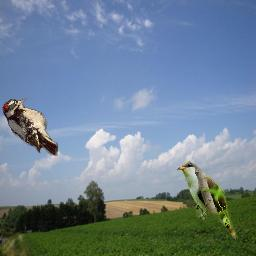Cuckoo: (175, 161, 241, 240)
Woodpecker: (2, 98, 58, 156)
